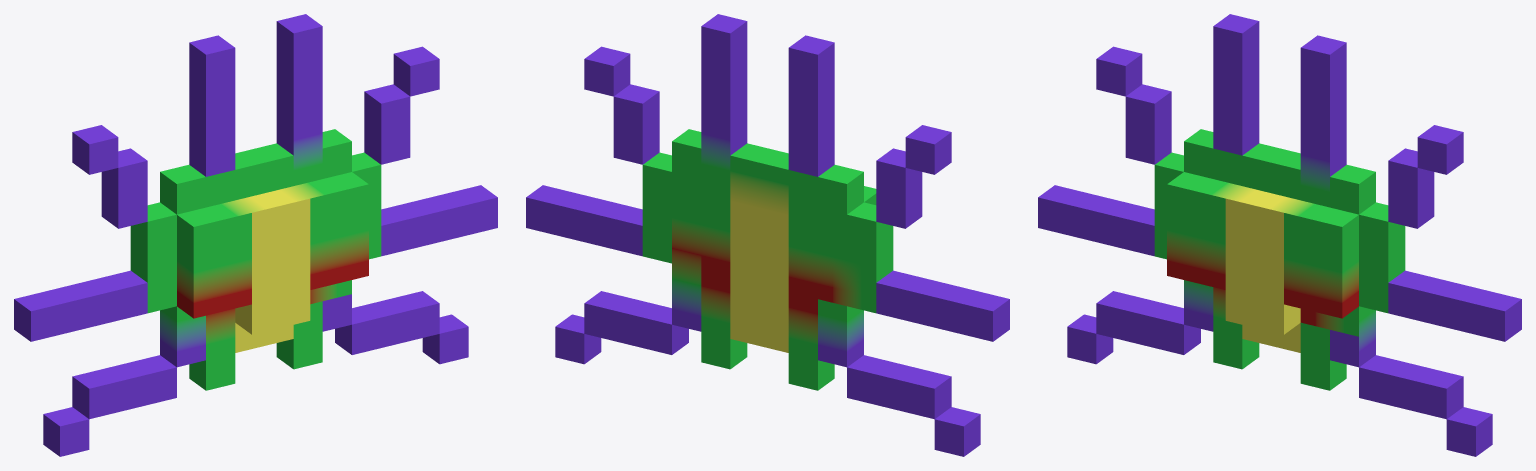
The model's file is Matrix_19.fbx.
3 views of the same model, side by side, from view 1: azimuth 30°, elevation 25°; view 2: azimuth 150°, elevation 25°; view 3: azimuth 330°, elevation 25° (orthographic).
Parts seen in each view (by area): view 1: Matrix_19; view 2: Matrix_19; view 3: Matrix_19.
Part boxes in pixels (left/top/right/bottom): Matrix_19: left=14, top=14, right=497, bottom=456; Matrix_19: left=526, top=14, right=1009, bottom=456; Matrix_19: left=1038, top=14, right=1521, bottom=456.
Size of the model in its own units: 16 by 12 by 2.
